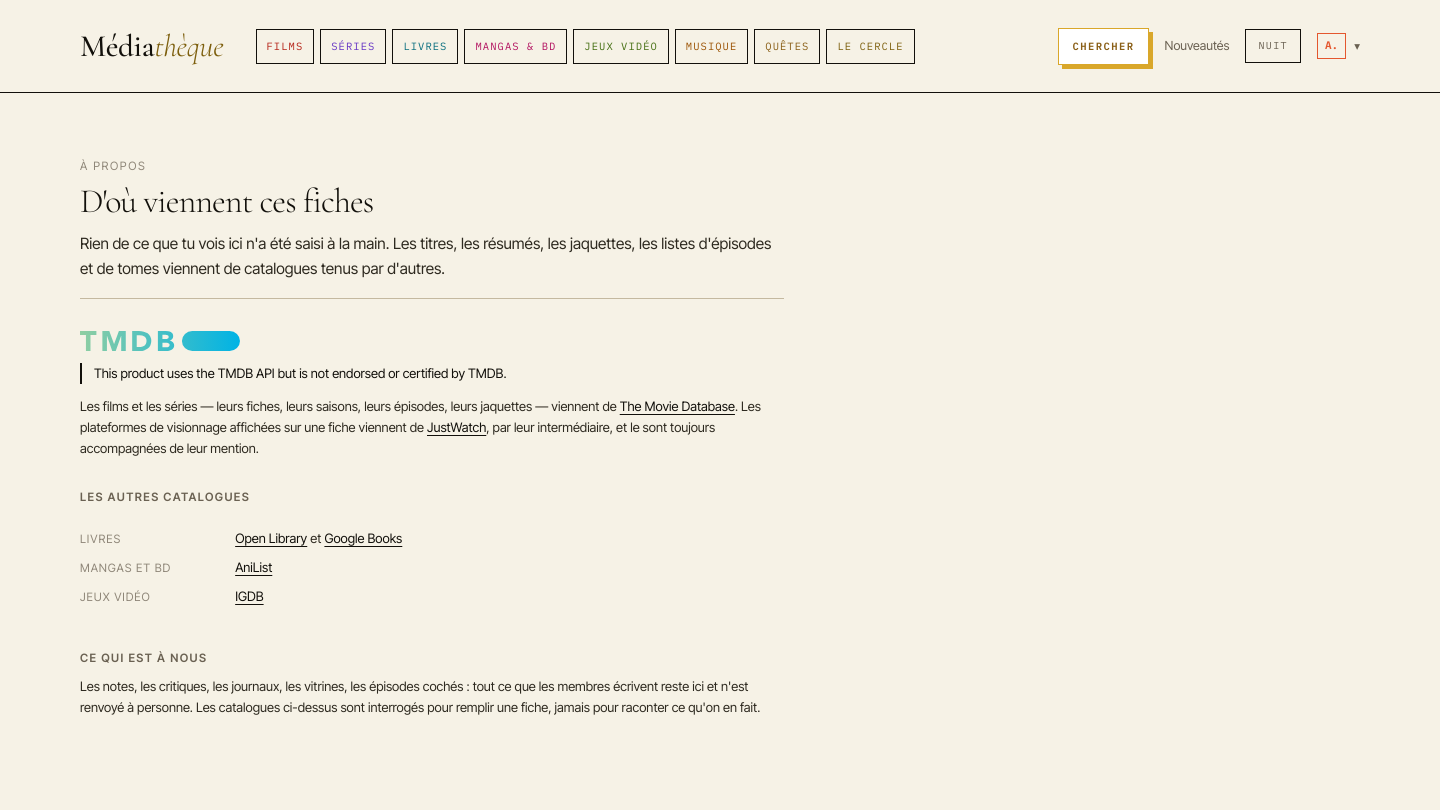
Test: App — la déconnexion quitte l’écran connecté › remplace le bandeau de compte par l’écran de connexion après « Déconnexion »
Click the button named "mon compte" at [1338, 46], box [1317, 24, 1360, 68]
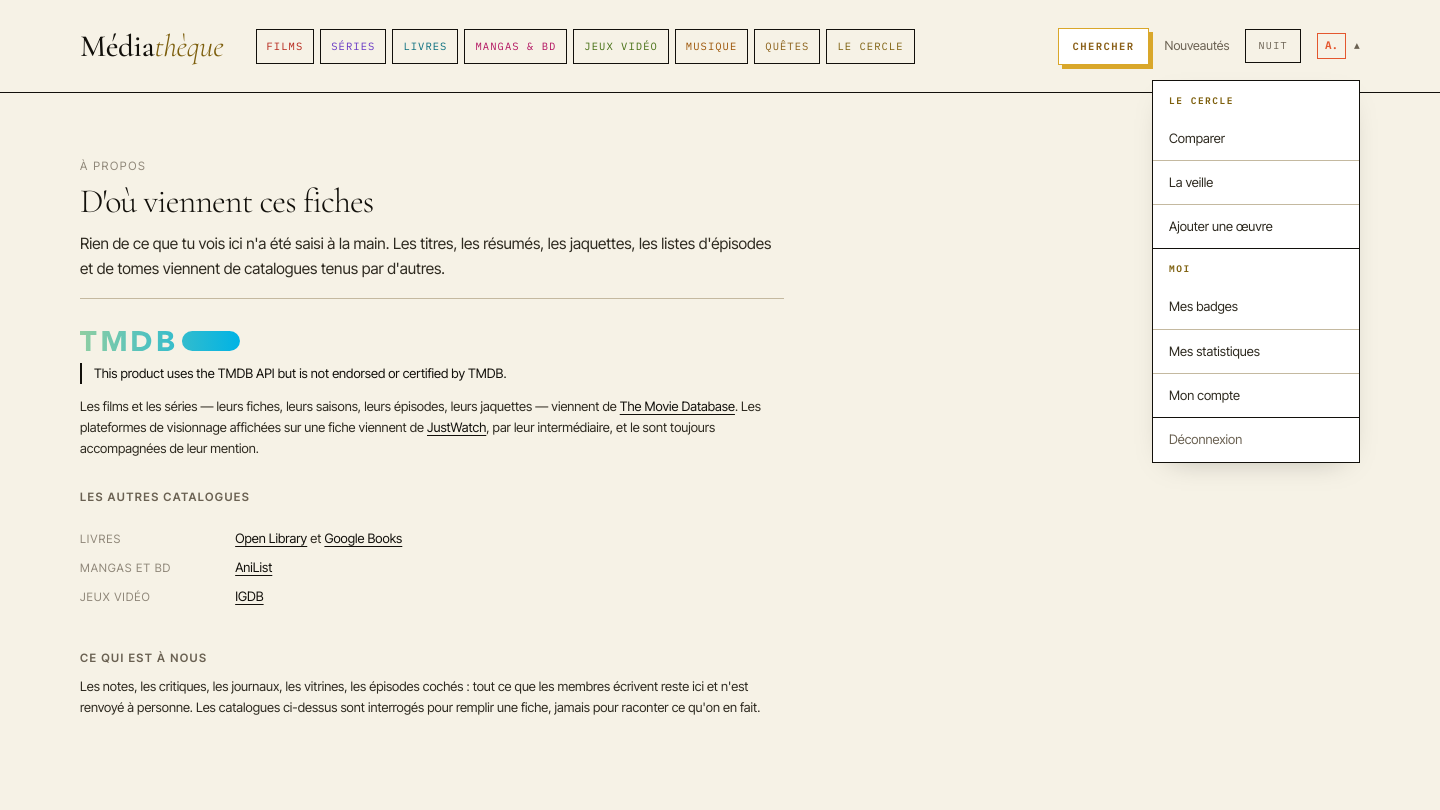
Click the button "Déconnexion" at [1256, 440], box [1153, 418, 1359, 462]
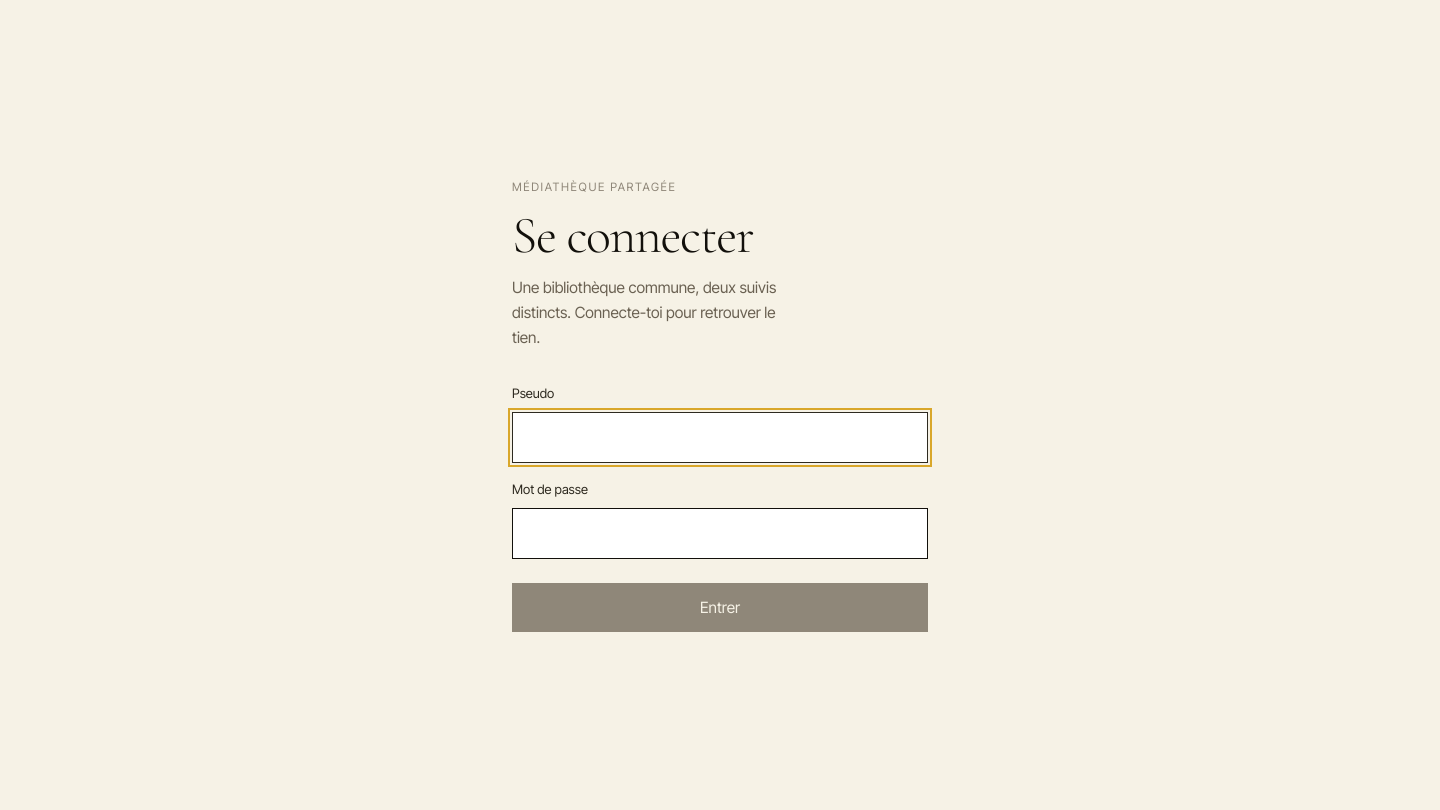
Result: the link "Mon compte" is gone
Result: the heading "Se connecter" is shown at [512, 204, 753, 267]
